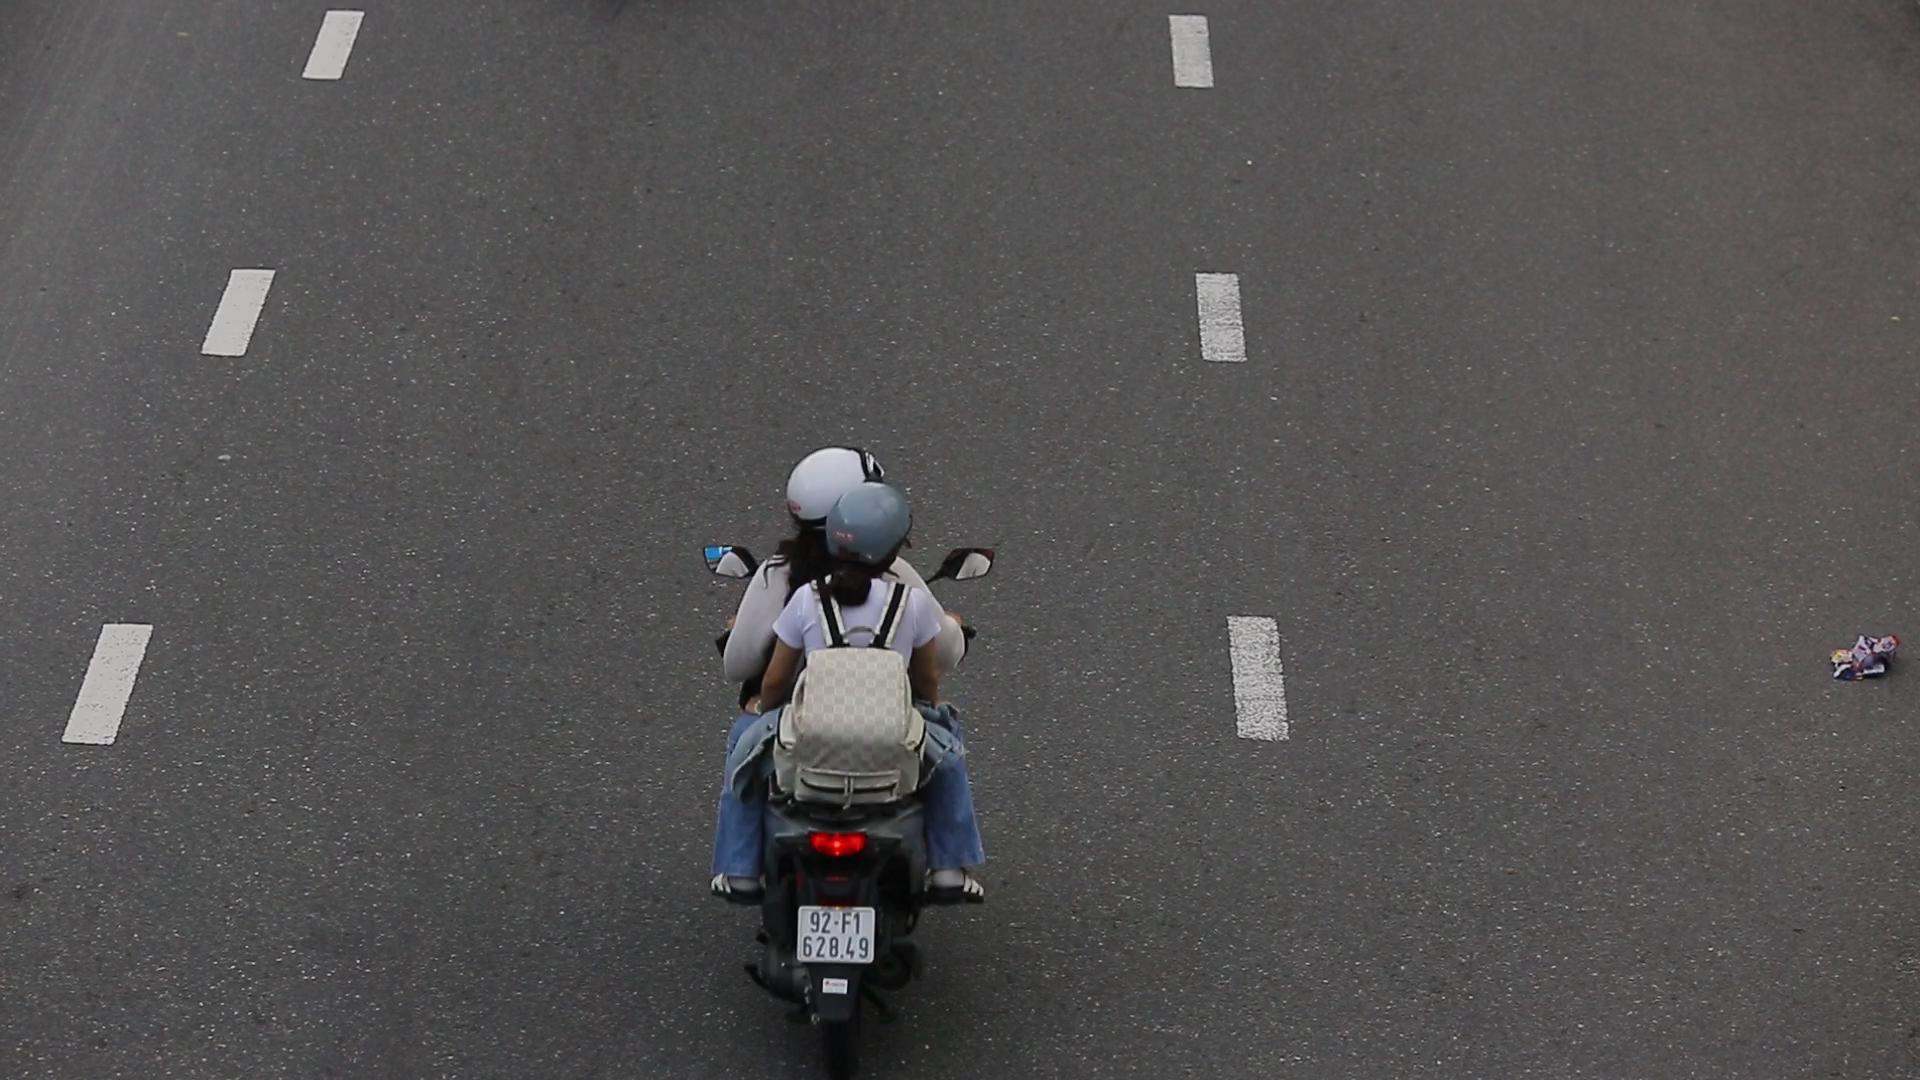motobike: (663, 430, 1054, 1077)
